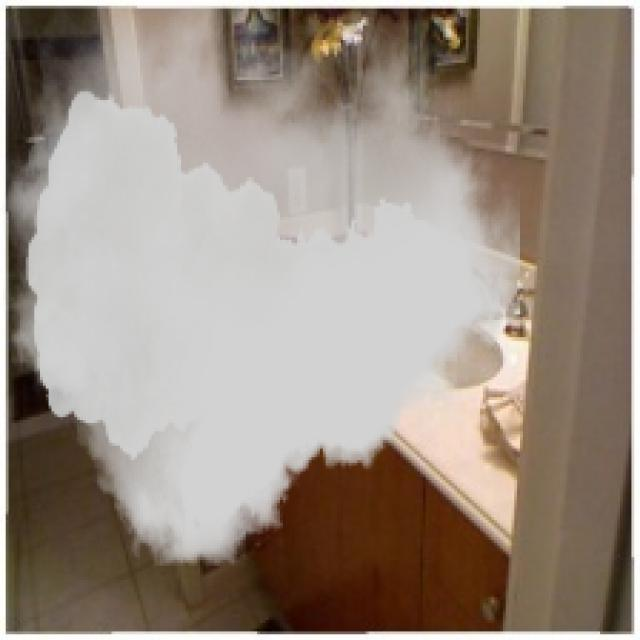smoke: (3, 6, 520, 566)
